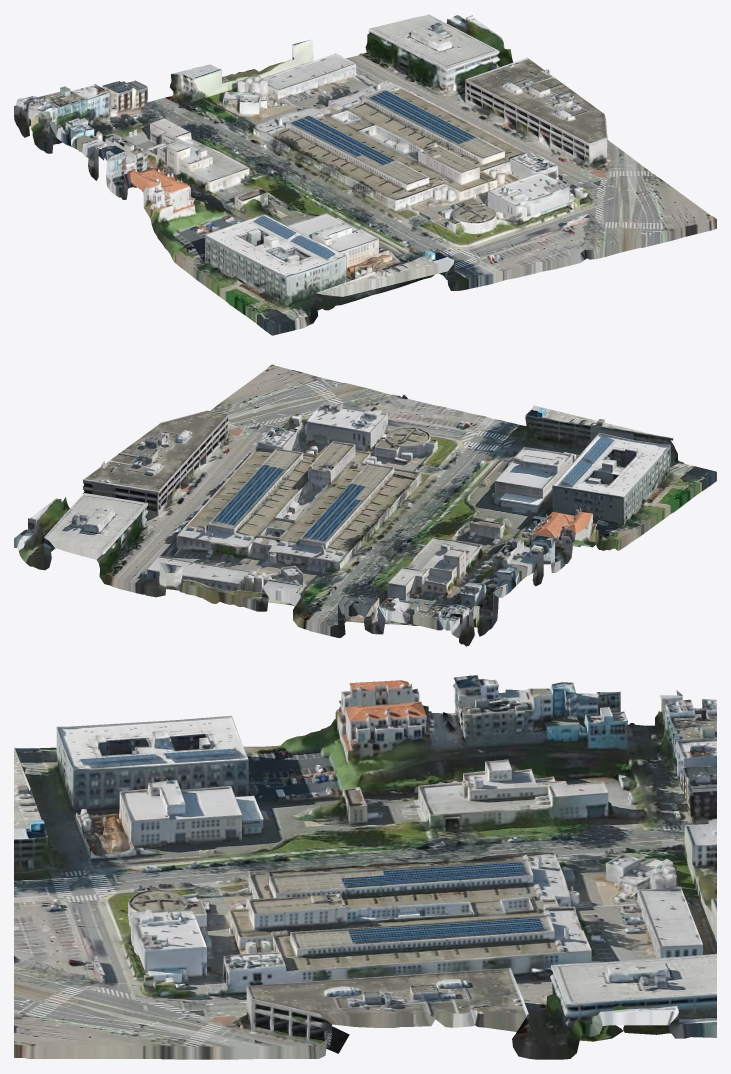
Rendered from z17-20968-50647-h0-yup-uvflip-v3-world.glb.
3 views of the same model, one above another, from view 1: azimuth 30°, elevation 25°; view 2: azimuth 150°, elevation 25°; view 3: azimuth 270°, elevation 25° (orthographic). The views are drawn at different scales.
Size of the model in its own units: 241 by 33.92 by 243.
Materials: 1 (1 with a texture image).
